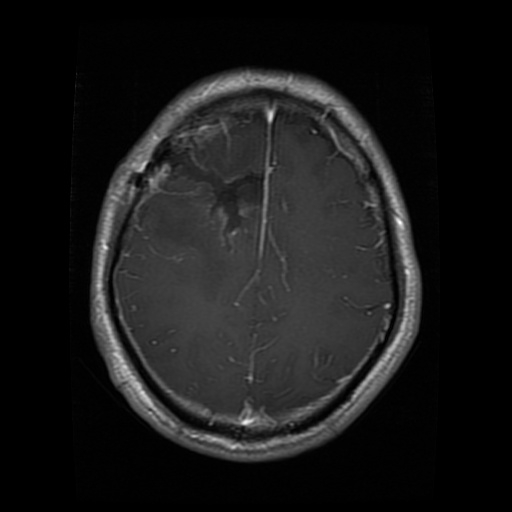glioma: (172, 147, 267, 253)
